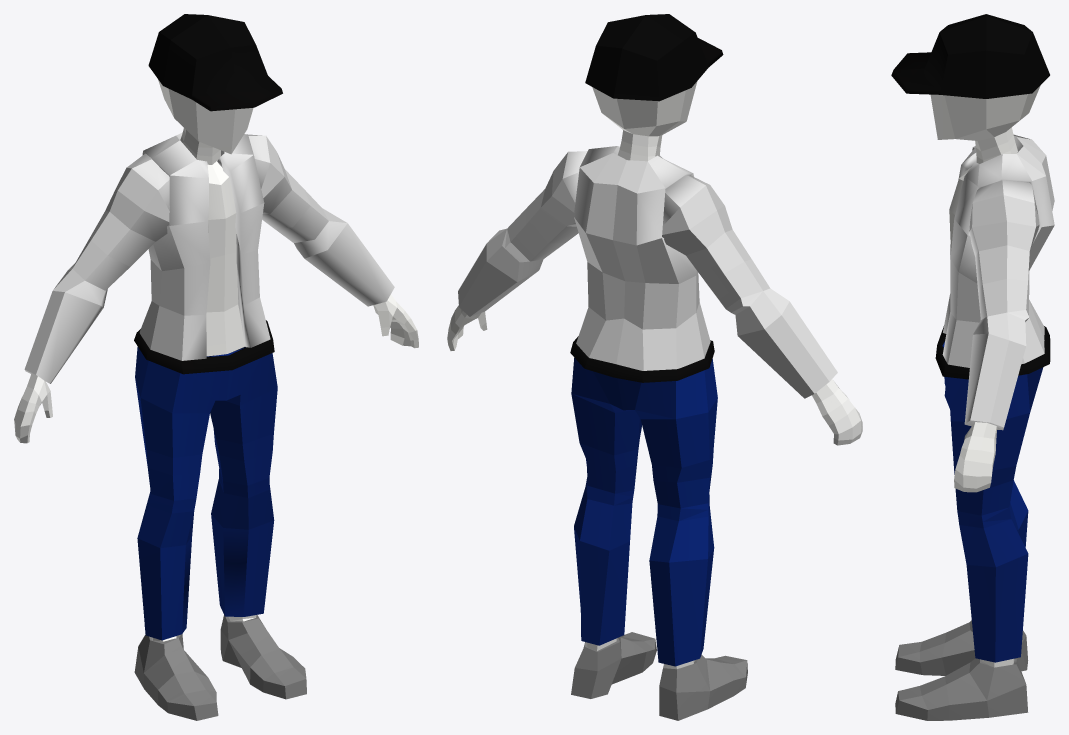
Rendered from Character.fbx.
3 views of the same model, side by side, from view 1: azimuth 30°, elevation 25°; view 2: azimuth 150°, elevation 25°; view 3: azimuth 270°, elevation 25° (orthographic). The views are drawn at different scales.
Parts seen in each view (by area): view 1: low Poly Character.004, low Poly Character.003, low Poly Character.002, low Poly Character.005, low Poly Character.006, low Poly Character.007; view 2: low Poly Character.004, low Poly Character.003, low Poly Character.006, low Poly Character.005, low Poly Character.002, low Poly Character.007; view 3: low Poly Character.004, low Poly Character.003, low Poly Character.006, low Poly Character.005, low Poly Character.002, low Poly Character.007.
Part boxes in pixels (left/top/right/bottom): low Poly Character.004: left=24, top=132, right=394, bottom=383; low Poly Character.003: left=135, top=347, right=277, bottom=640; low Poly Character.002: left=14, top=79, right=418, bottom=641; low Poly Character.005: left=134, top=615, right=306, bottom=720; low Poly Character.006: left=148, top=14, right=282, bottom=111; low Poly Character.007: left=134, top=320, right=274, bottom=374; low Poly Character.004: left=458, top=146, right=837, bottom=398; low Poly Character.003: left=571, top=358, right=717, bottom=666; low Poly Character.006: left=585, top=14, right=723, bottom=101; low Poly Character.005: left=571, top=632, right=747, bottom=720; low Poly Character.002: left=447, top=81, right=862, bottom=669; low Poly Character.007: left=570, top=336, right=714, bottom=382; low Poly Character.004: left=942, top=134, right=1054, bottom=430; low Poly Character.003: left=942, top=341, right=1043, bottom=662; low Poly Character.006: left=891, top=14, right=1049, bottom=98; low Poly Character.005: left=895, top=620, right=1028, bottom=720; low Poly Character.002: left=930, top=85, right=1040, bottom=667; low Poly Character.007: left=935, top=326, right=1050, bottom=379.
Size of the model in its own units: 116 by 185 by 40.77.
Materials: 1 (1 with a texture image).
